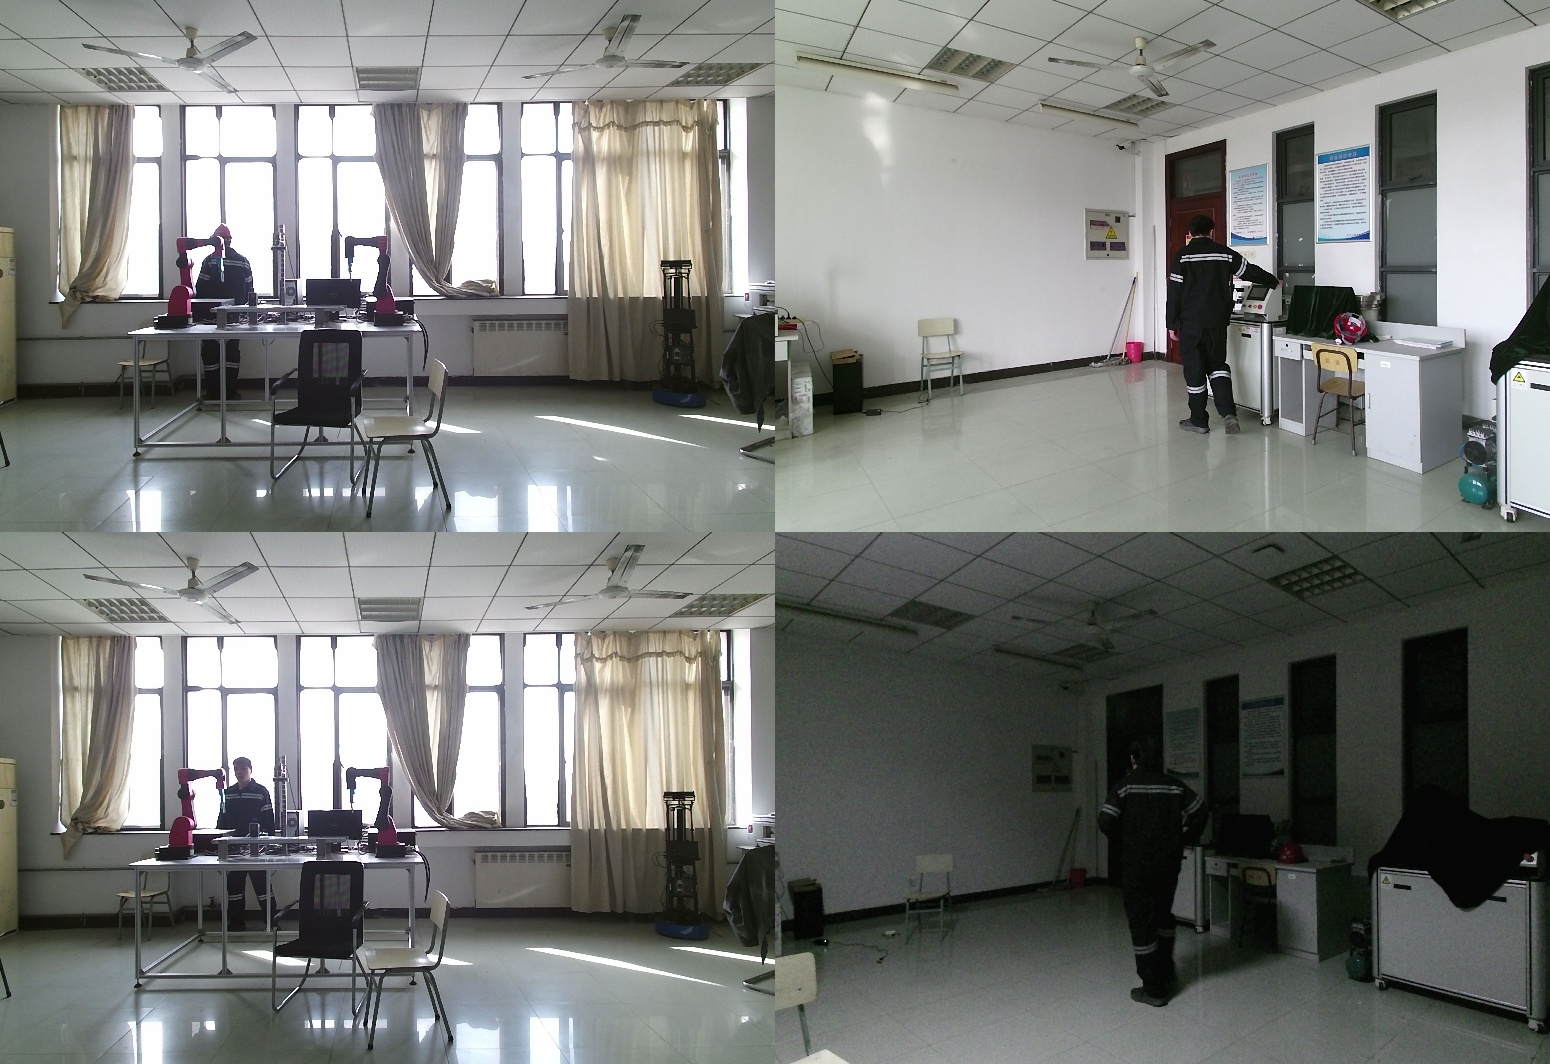person: (1101, 737, 1227, 1004), (1176, 217, 1282, 435), (192, 225, 253, 413), (216, 760, 280, 932)
